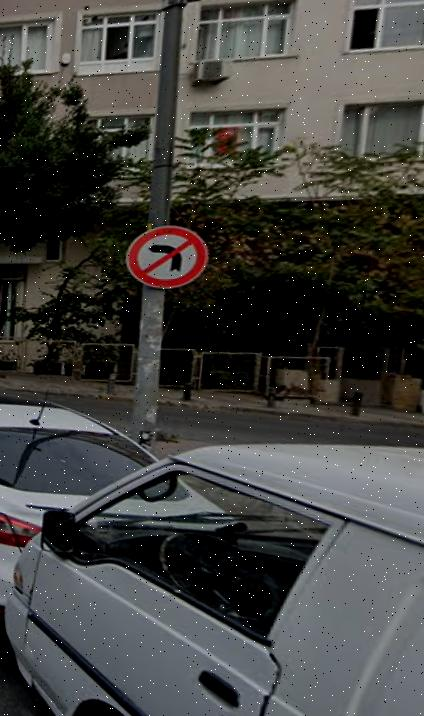rightturnsareforbidden: (133, 227, 199, 288)
